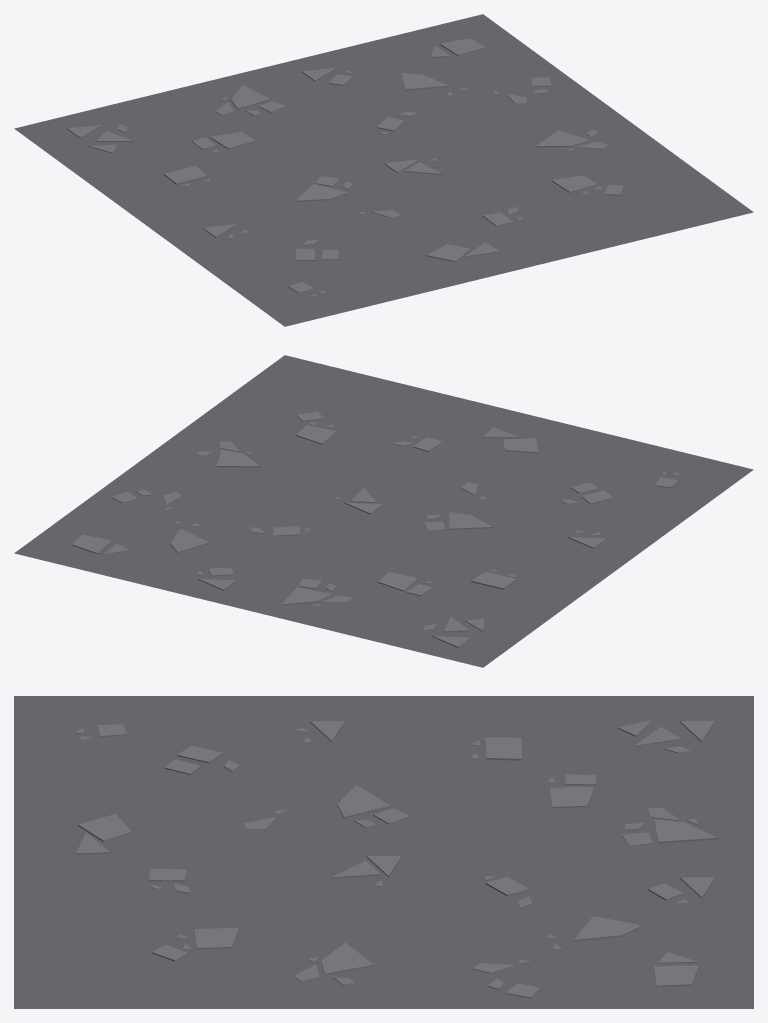
Rendered from floor_big.fbx.
3 renders of one model, top to bottom at view 1: azimuth 30°, elevation 25°; view 2: azimuth 150°, elevation 25°; view 3: azimuth 270°, elevation 25°, orthographic. The views are drawn at different scales.
Parts seen in each view (by area): view 1: floor_big; view 2: floor_big; view 3: floor_big.
Boxes of the visible parts, x1,y1,x2,y2 form: floor_big: (14, 14, 753, 326); floor_big: (14, 355, 753, 667); floor_big: (14, 696, 753, 1008).
Size of the model in its own units: 600 by 3.08 by 600.
